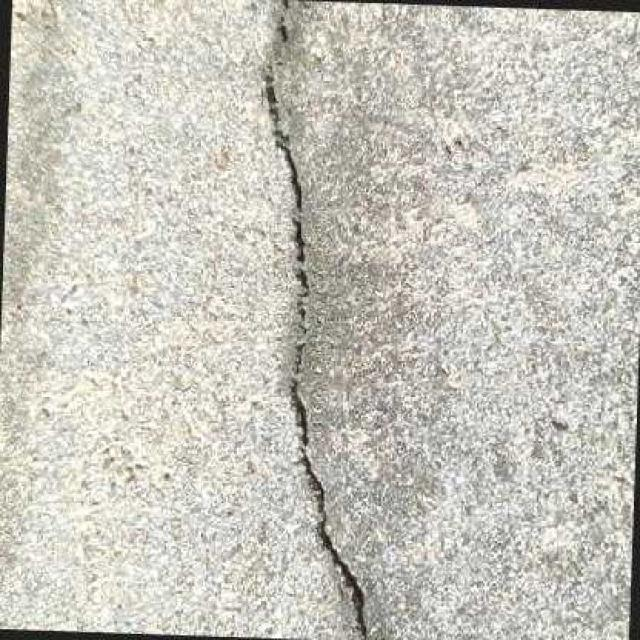D00: (261, 0, 367, 640)
